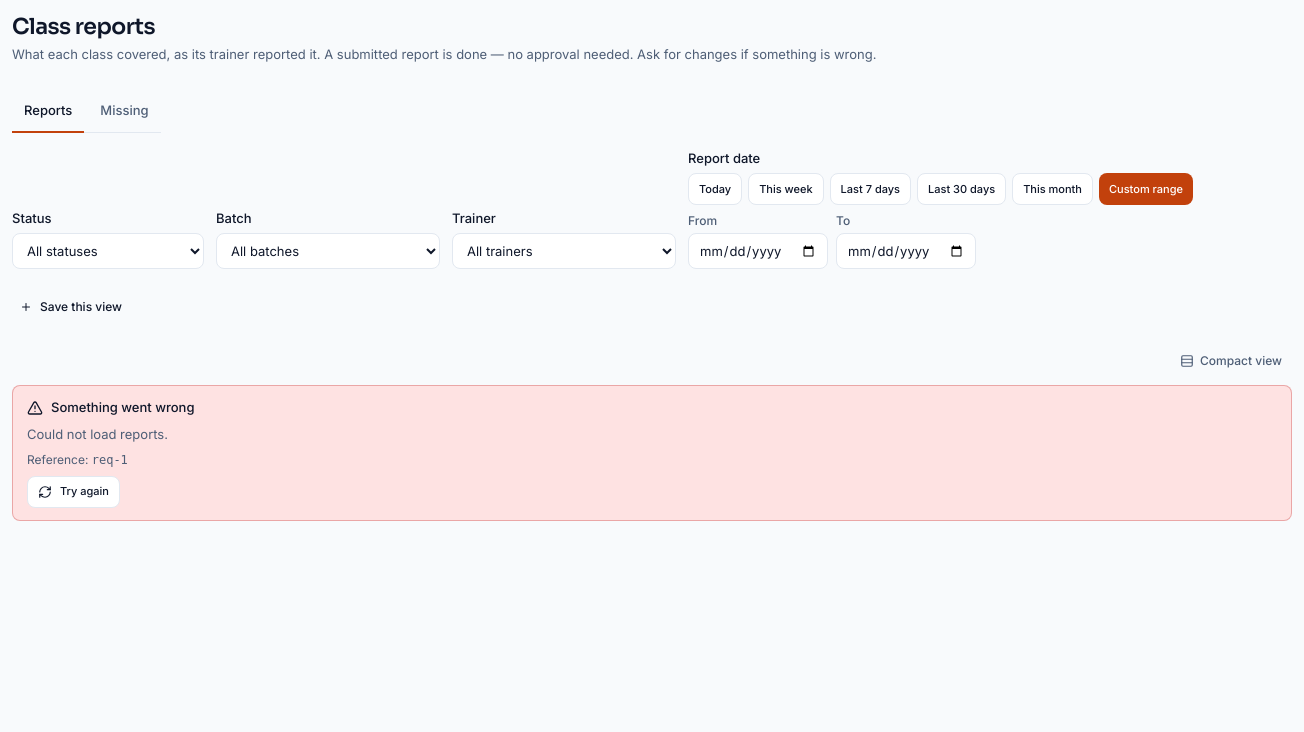
DsrQueue loading, error and empty states › shows an error with retry when the queue fails to load, and recovers on retry
The image size is (1304, 732).
Expected: the text "Could not load reports." is shown, [27,426,168,442]
Click the button "Try again" at x=74, y=492, box [27,476,120,508]
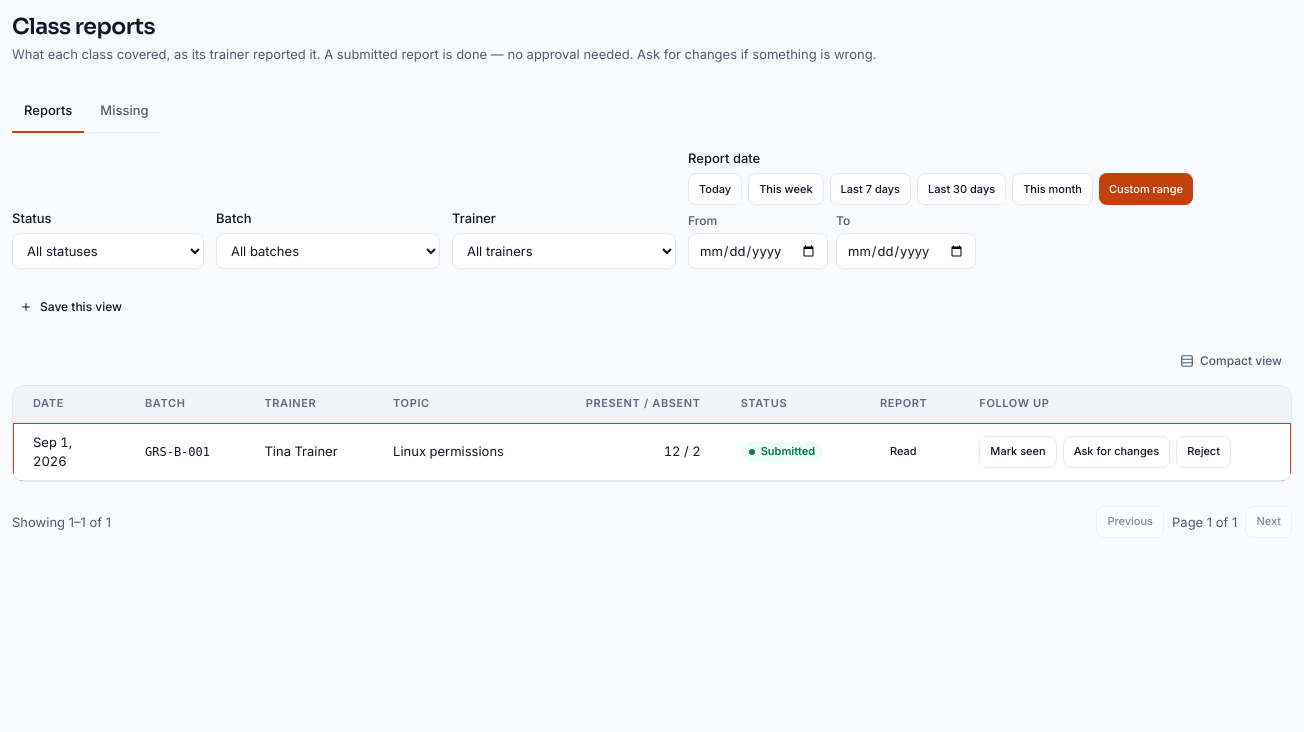
Expected: the text "Tina Trainer" is shown, [244,423,373,481]
